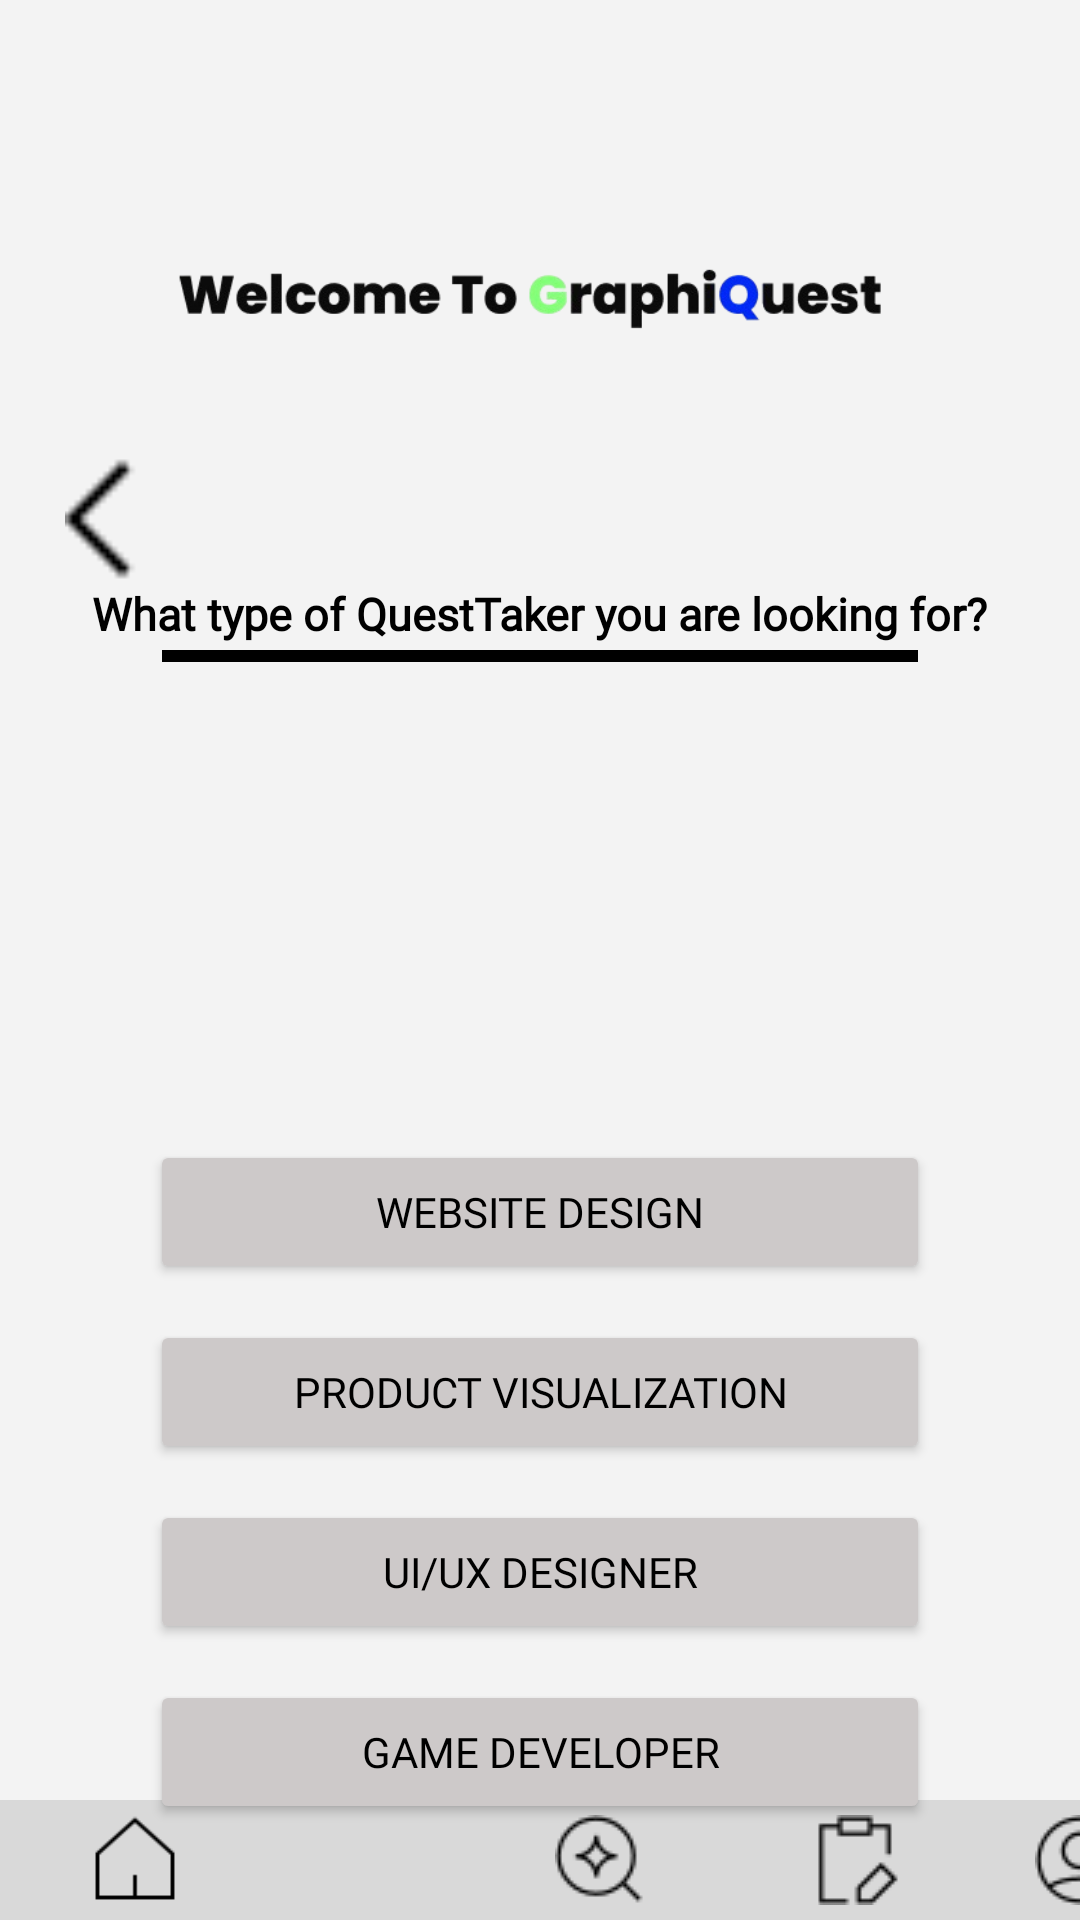

Icons on this 1080*1920 Android screen, each with its box as (x1, y1, x2, y2):
backarrow: (65, 460, 132, 578)
homebutton: (95, 1817, 175, 1900)
searchbutton: (555, 1815, 643, 1903)
taskboardbutton: (818, 1815, 898, 1905)
